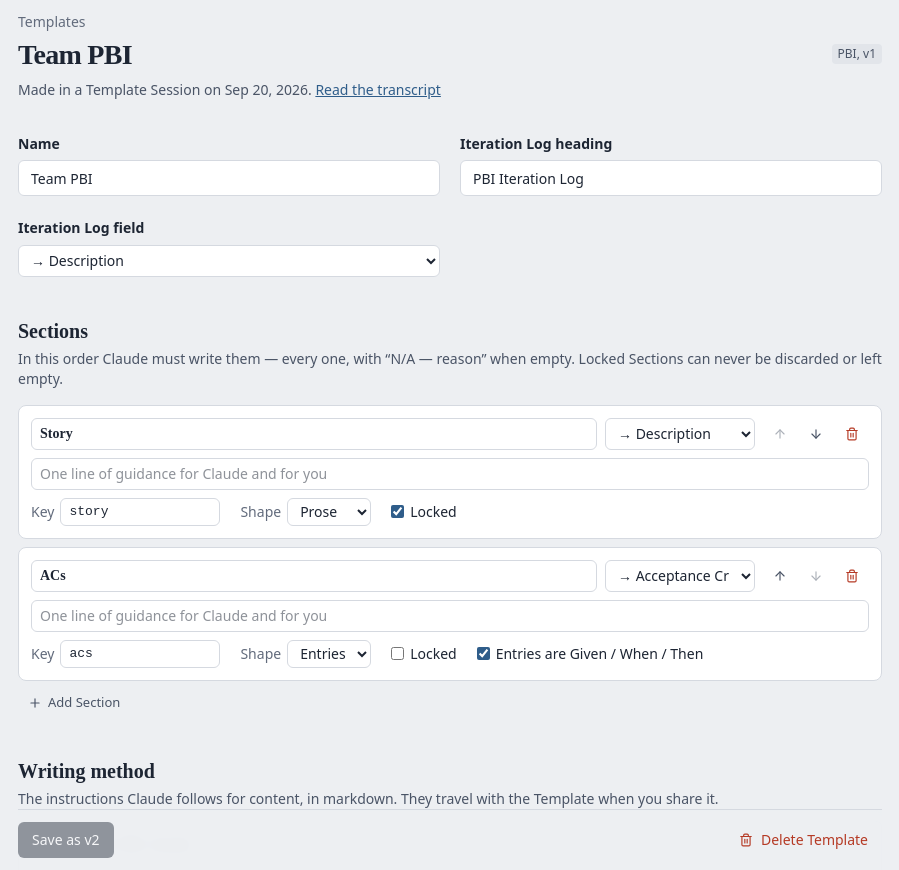
TemplateEditorPage › refuses invalid input with a message
The image size is (899, 870).
Clear the field labelled "Name". click: (229, 178)
box: [18,160,440,196]
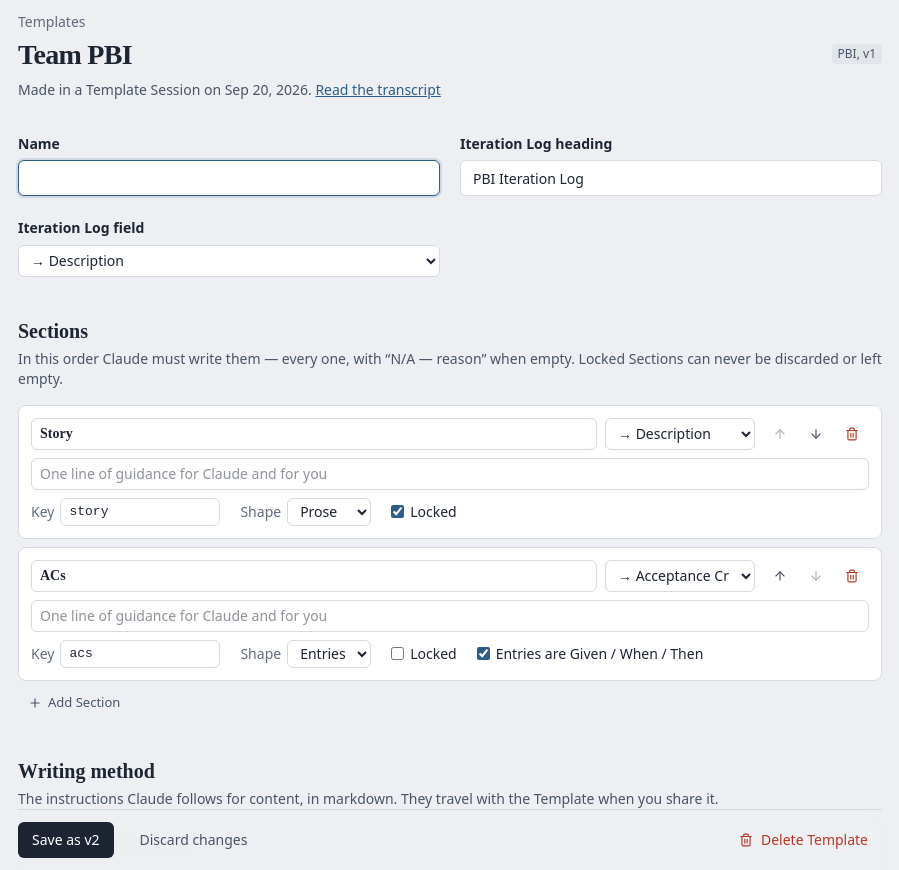
Replace the text in the field labelled "Key" in the row of "Entries are Given / When / Then" with "story". click: (140, 654)
box: [60,640,220,668]
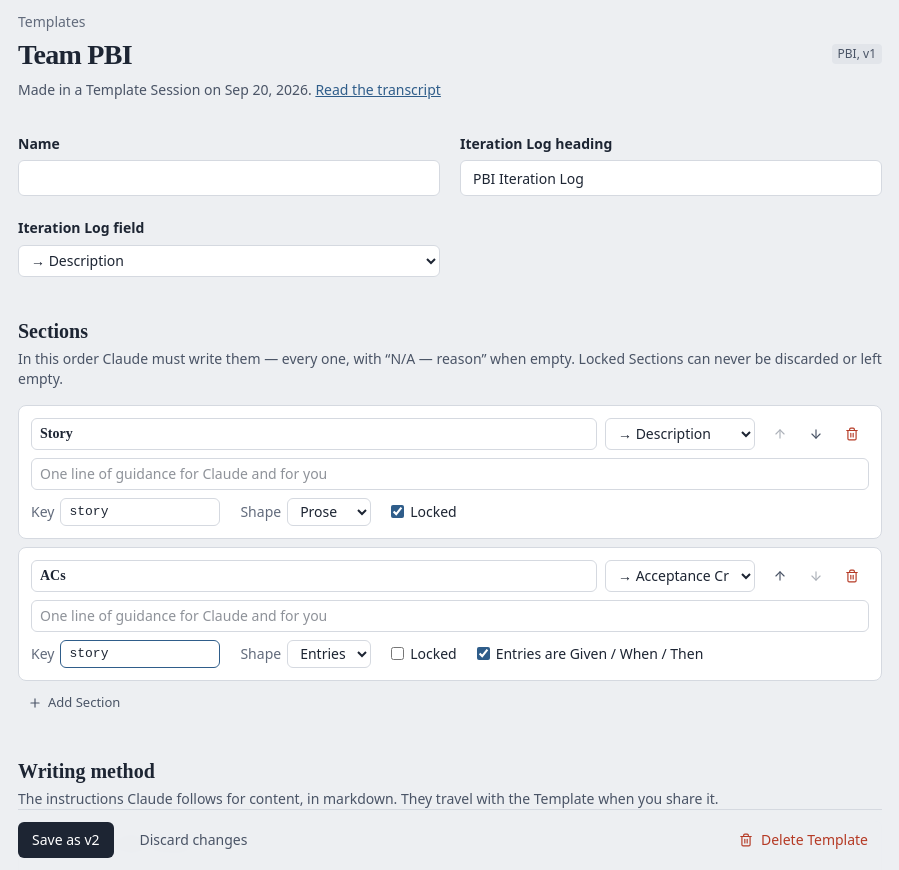
Click the button "Save as v2". click: (66, 840)
box: [18,822,114,858]
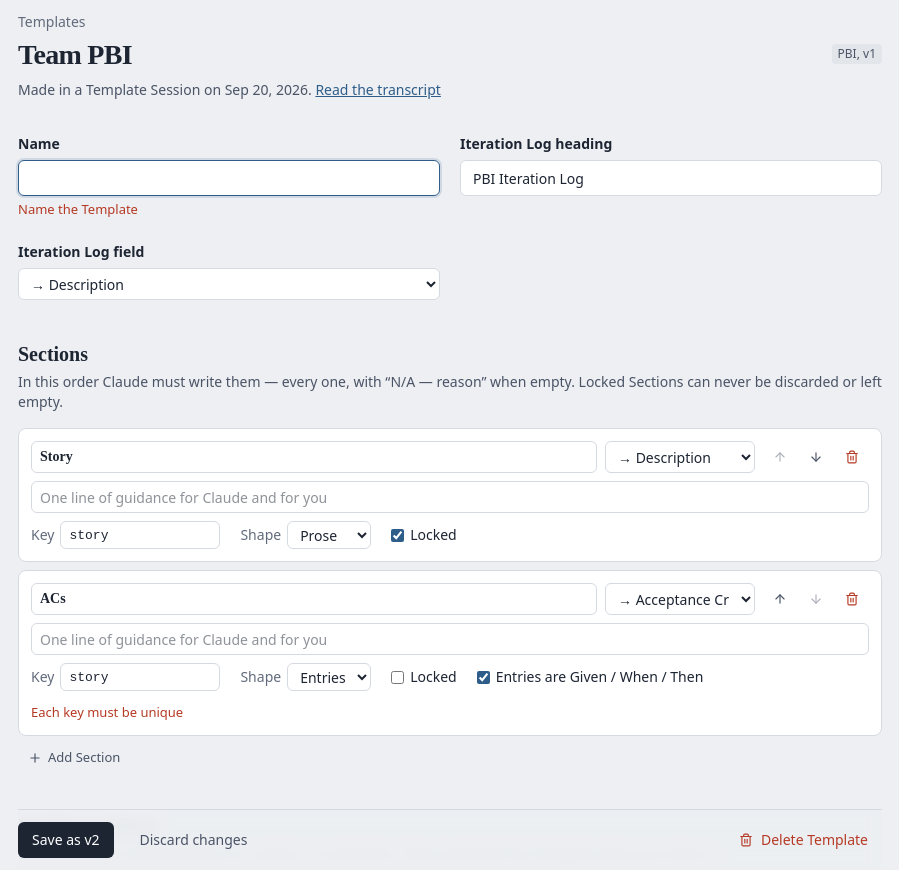
Now the text "Name the Template" is shown, box [18,200,138,218]
Now the text "Each key must be unique" is shown, box [31,703,183,721]
